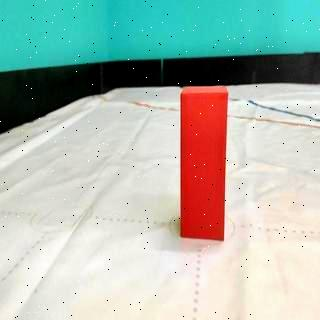redbox: (180, 87, 226, 240)
